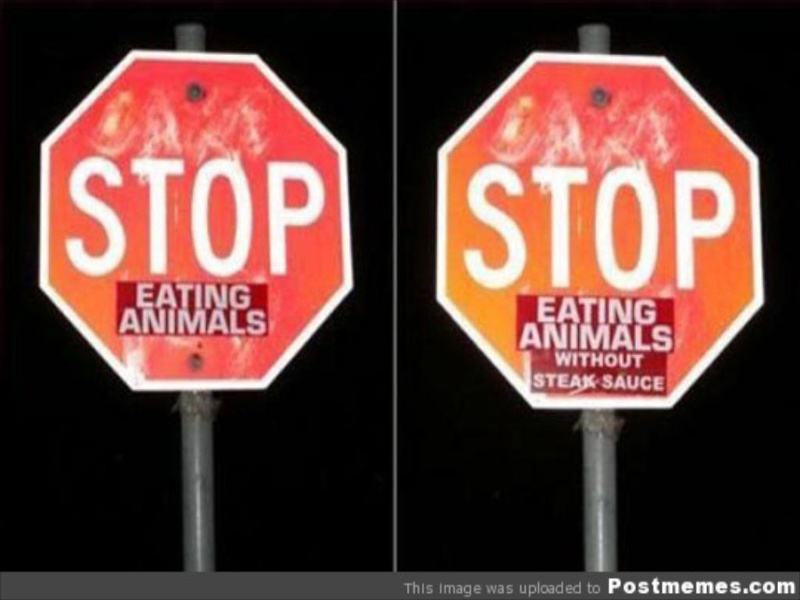stop: (442, 47, 780, 407), (39, 43, 361, 398)
